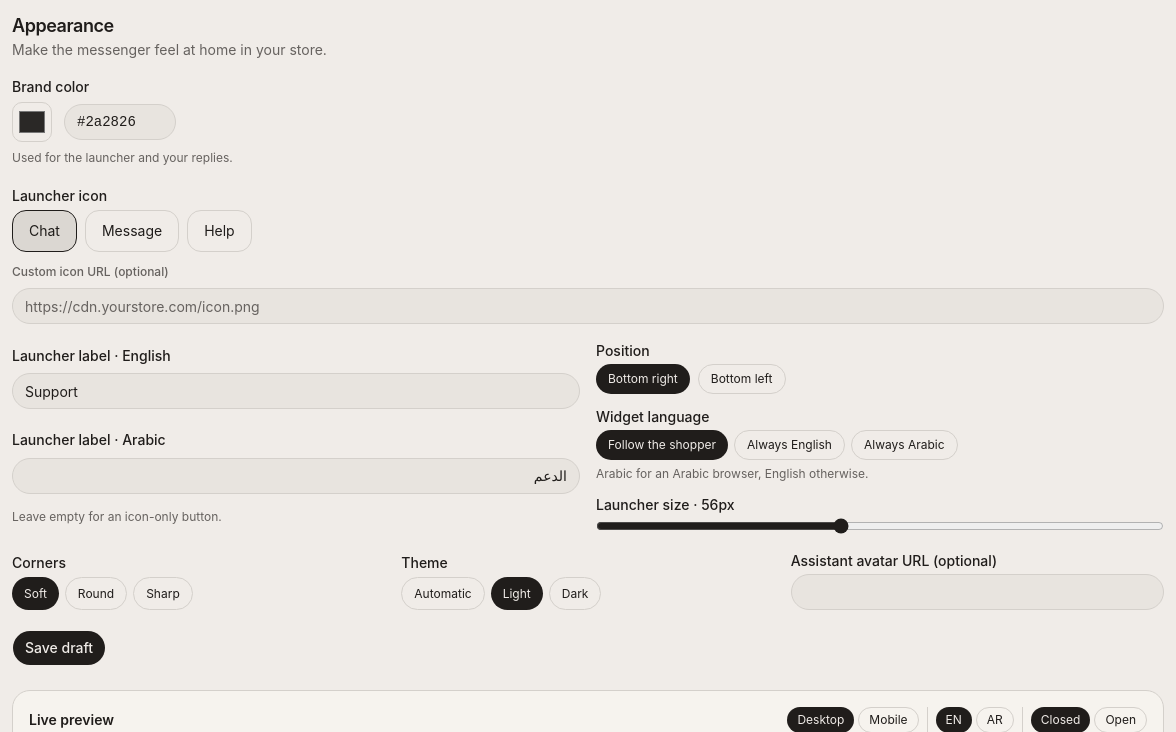
AppearanceEditor › shows a failed save as an alert, never as success
Click the button "Save draft".
click(59, 648)  # box 12,630 -> 106,666
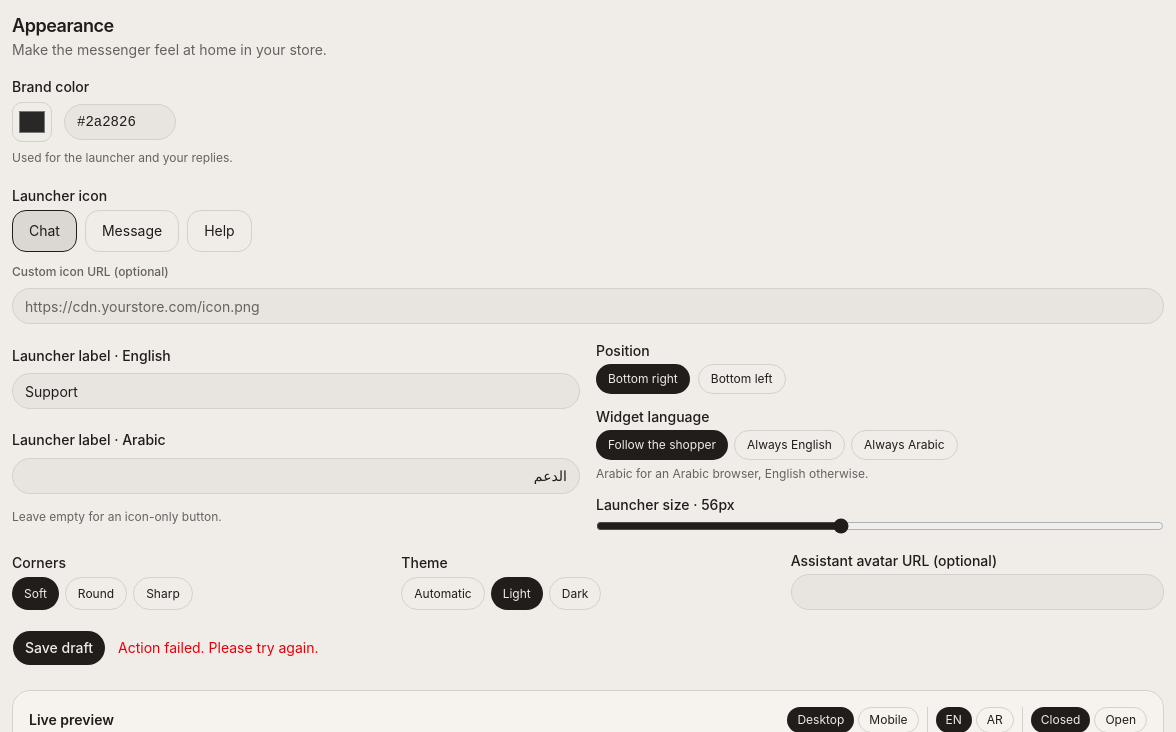
Expected: the message reads "Action failed. Please try again.", 118,639 -> 318,656
